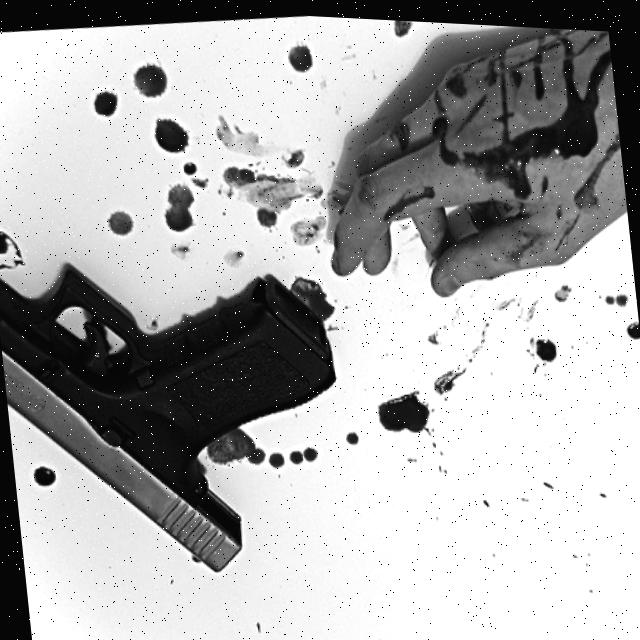pistol: (0, 232, 355, 596)
